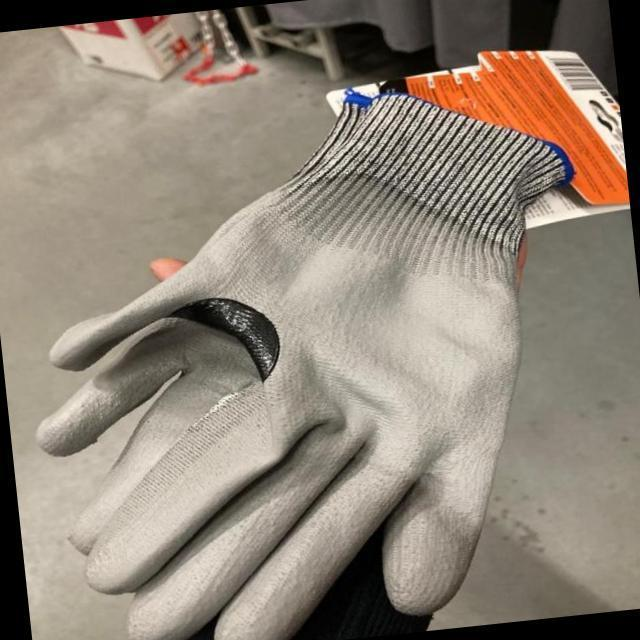Gloves: (37, 87, 557, 636)
